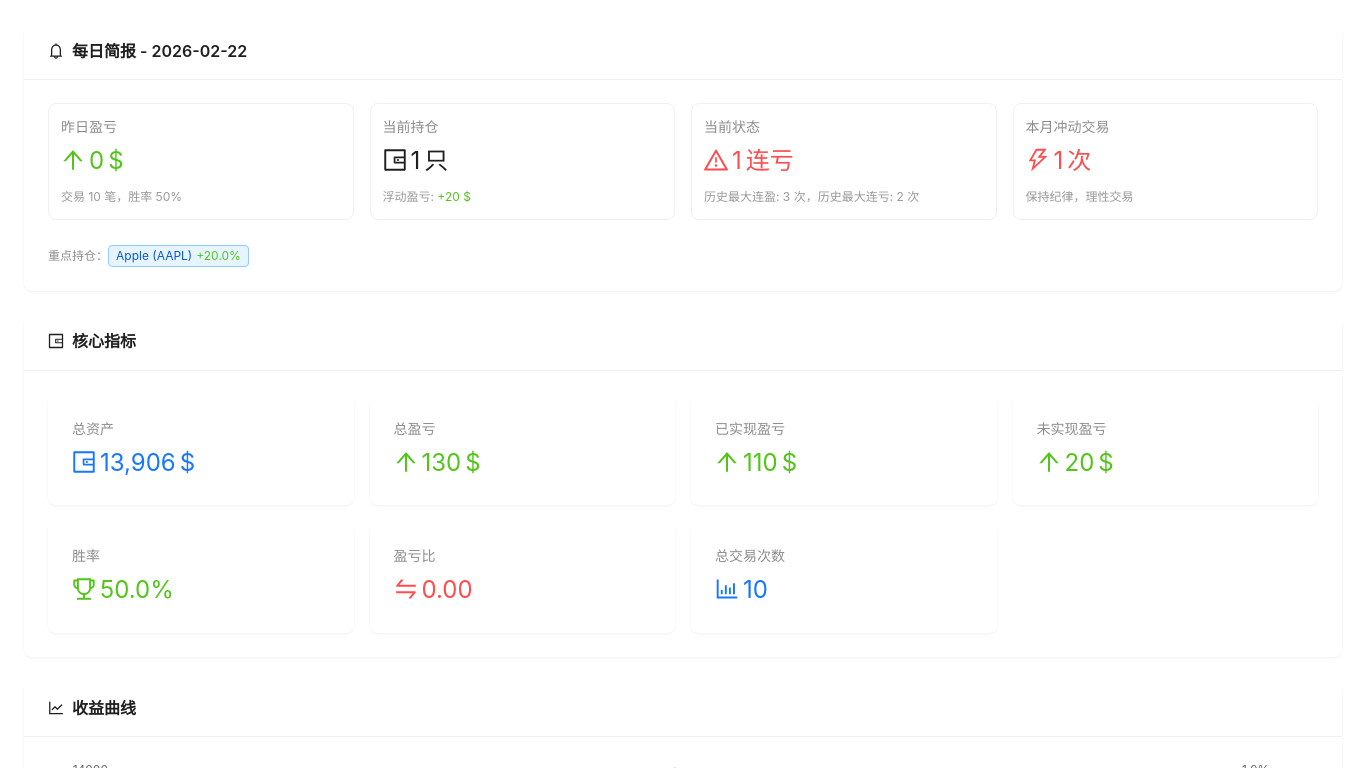
Test: Dashboard currency controls › opens details modal when clicking profit-loss ratio card
The image size is (1366, 768).
expect the text "盈亏比" is shown: met, box [394,547,436,564]
What coordinates should you click on to do the following:
click the text "盈亏比"
I would click on:
 (522, 577)
Its box is [370,521,675,633].
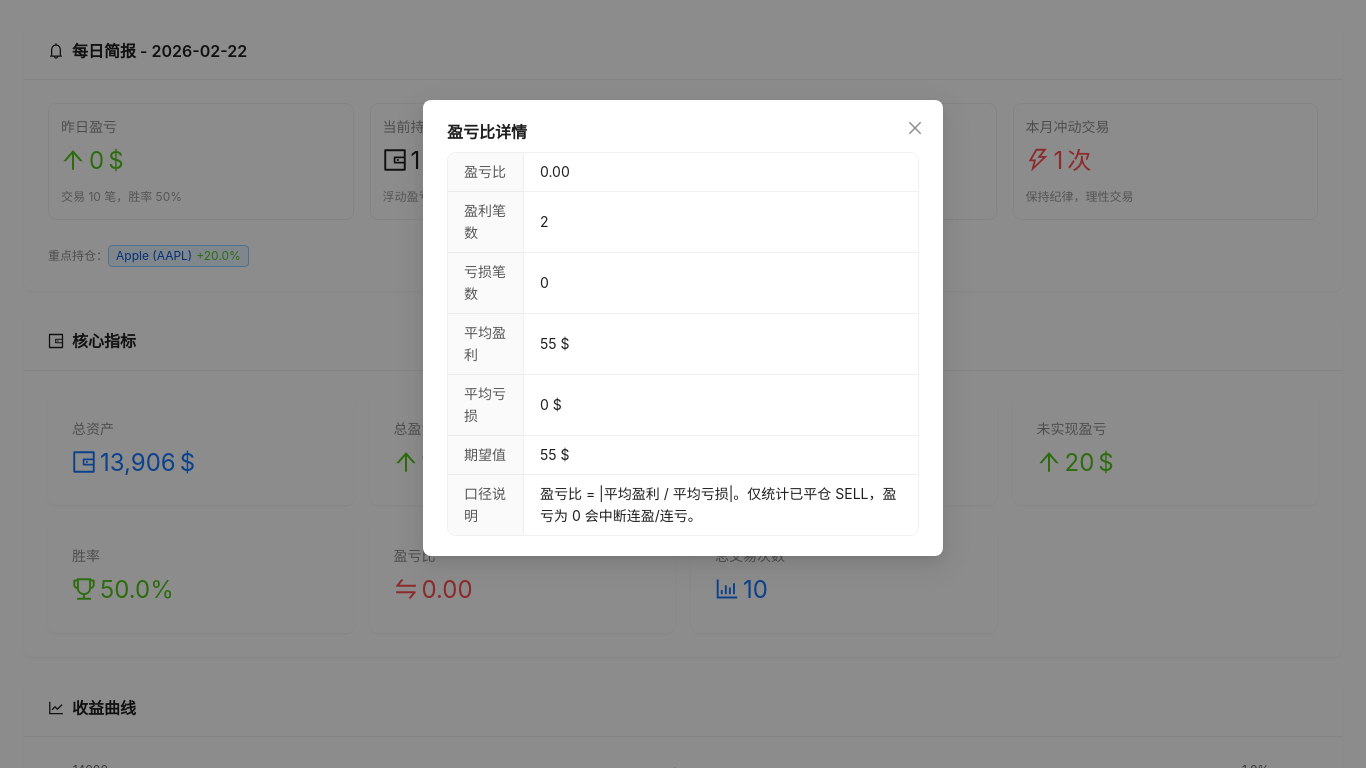
expect the text "盈亏比详情" is shown: met, box [447,122,527,142]
